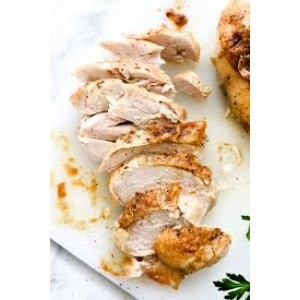chicken breast_brain food: (77, 99, 205, 269)
